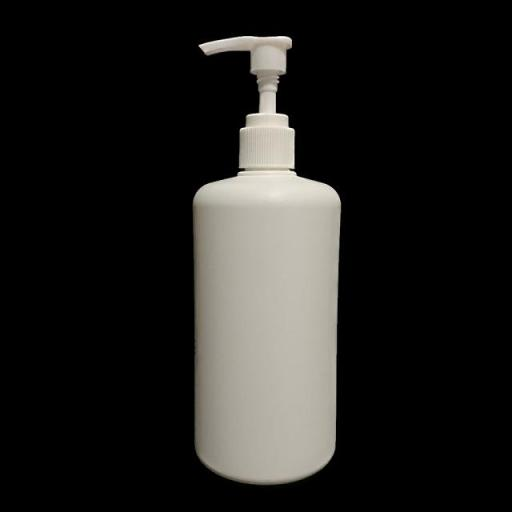plastic: (185, 25, 341, 485)
